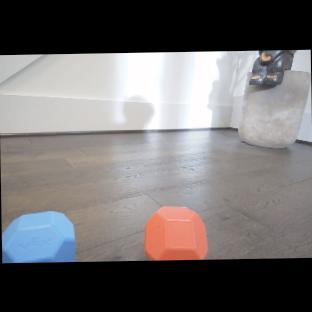V5_BLUE: (1, 210, 75, 263), (143, 206, 208, 261)
